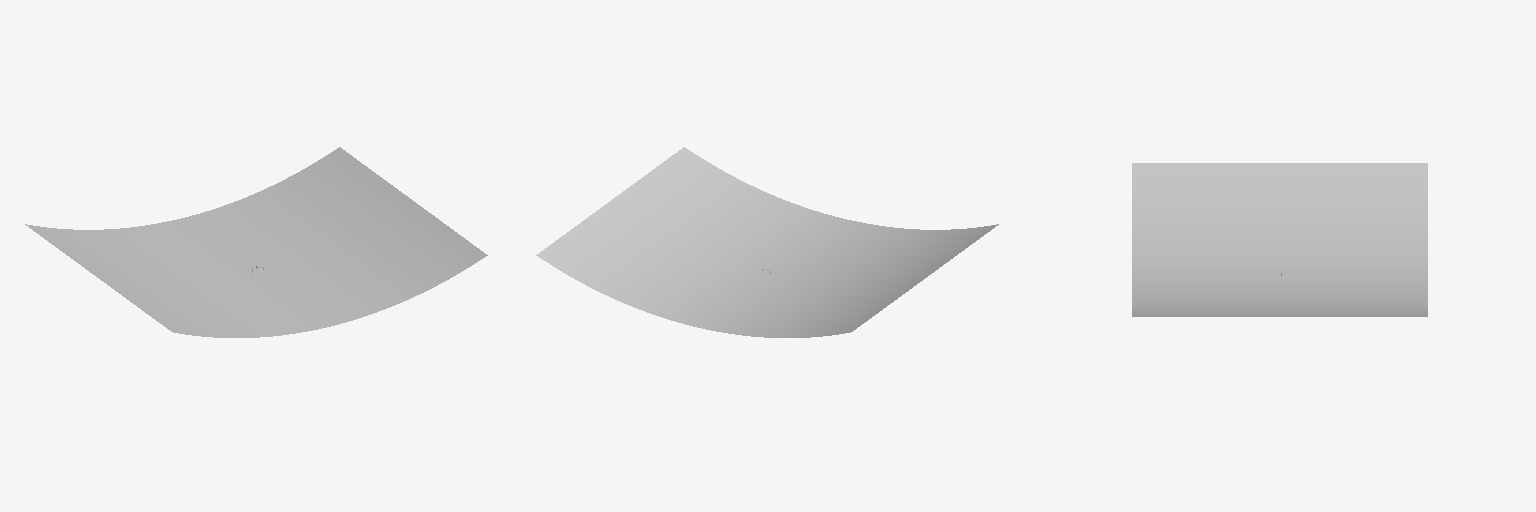
Rendered from TennisTableOBJ.obj.
3 views of the same model, side by side, from view 1: azimuth 30°, elevation 25°; view 2: azimuth 150°, elevation 25°; view 3: azimuth 270°, elevation 25° (orthographic).
Parts seen in each view (by area): view 1: Plane002; view 2: Plane002; view 3: Plane002.
Part boxes in pixels (x1,y1,x2,y2): Plane002: (25, 147, 487, 337); Plane002: (536, 147, 998, 337); Plane002: (1132, 163, 1427, 316).
Bounding box in the file's own units: 2817 × 281 × 2291.